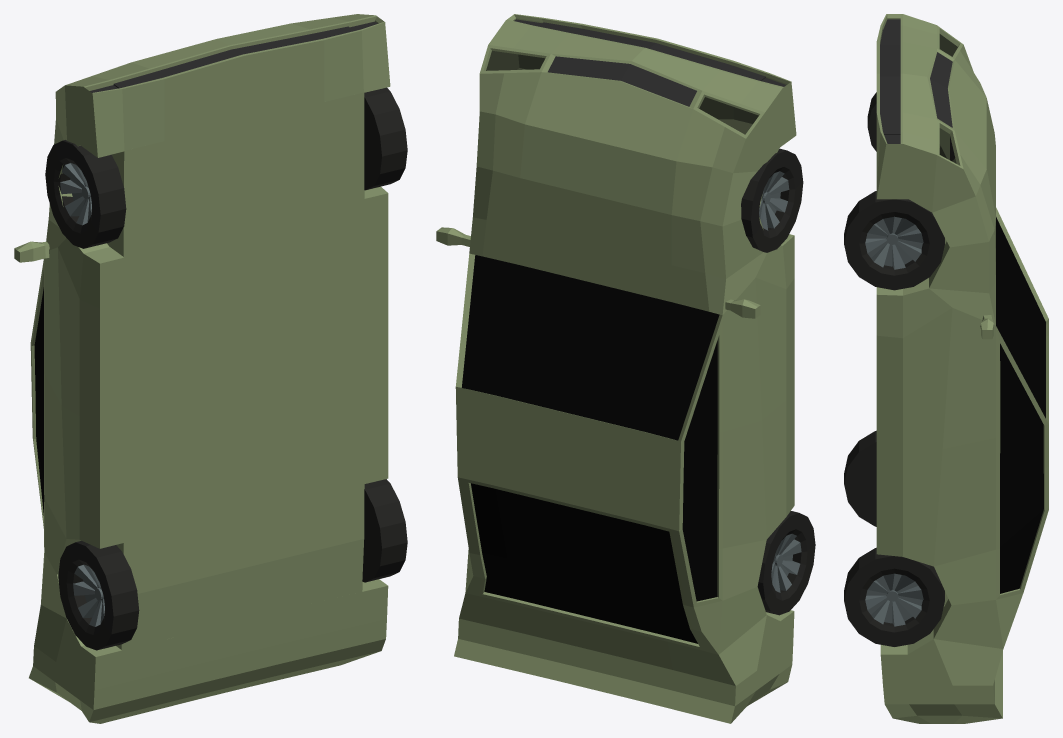
The model's file is Car_001.fbx.
3 renders of one model, left to right at view 1: azimuth 30°, elevation 25°; view 2: azimuth 150°, elevation 25°; view 3: azimuth 270°, elevation 25°, orthographic. The views are drawn at different scales.
Parts seen in each view (by area): view 1: Cube.003; view 2: Cube.003; view 3: Cube.003.
Part boxes in pixels (left/top/right/bottom): Cube.003: left=14, top=14, right=407, bottom=723; Cube.003: left=436, top=14, right=815, bottom=723; Cube.003: left=844, top=14, right=1048, bottom=723.
Size of the model in its own units: 110 by 353 by 190.
